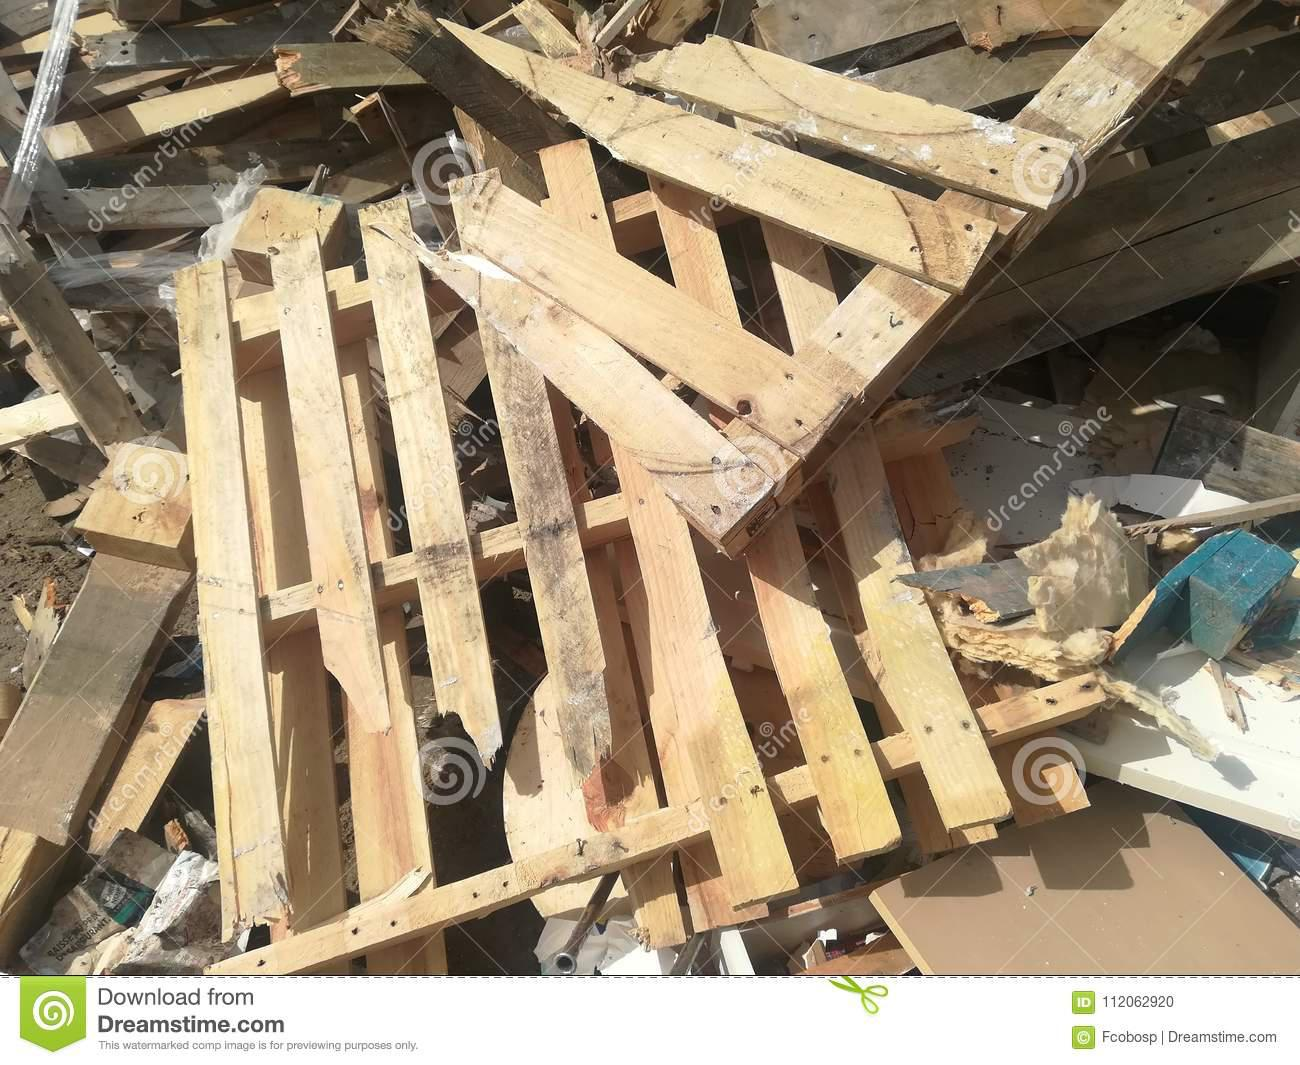wood: (163, 148, 1016, 958), (404, 19, 1223, 575)
